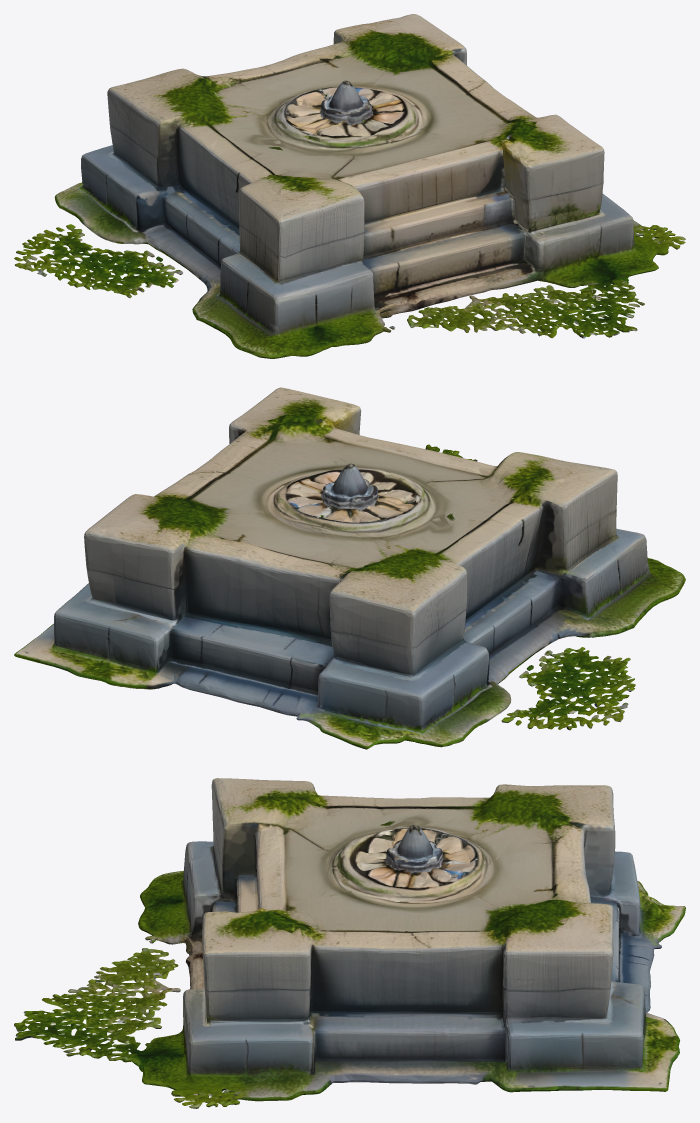
Rendered from granite-stone-threshold-slab-optimized.glb.
3 renders of one model, top to bottom at view 1: azimuth 30°, elevation 25°; view 2: azimuth 150°, elevation 25°; view 3: azimuth 270°, elevation 25°, orthographic. The views are drawn at different scales.
Parts seen in each view (by area): view 1: cddf760b-cb1d-4eac-bd4e-4a9f1ee12f1a_texturing.obj; view 2: cddf760b-cb1d-4eac-bd4e-4a9f1ee12f1a_texturing.obj; view 3: cddf760b-cb1d-4eac-bd4e-4a9f1ee12f1a_texturing.obj.
Boxes of the visible parts, x1,y1,x2,y2 form: cddf760b-cb1d-4eac-bd4e-4a9f1ee12f1a_texturing.obj: (14, 14, 685, 358); cddf760b-cb1d-4eac-bd4e-4a9f1ee12f1a_texturing.obj: (14, 387, 685, 749); cddf760b-cb1d-4eac-bd4e-4a9f1ee12f1a_texturing.obj: (14, 778, 685, 1108).
Bounding box in the file's own units: 3.5 × 0.9374 × 3.5.
1 material, 1 textured.
